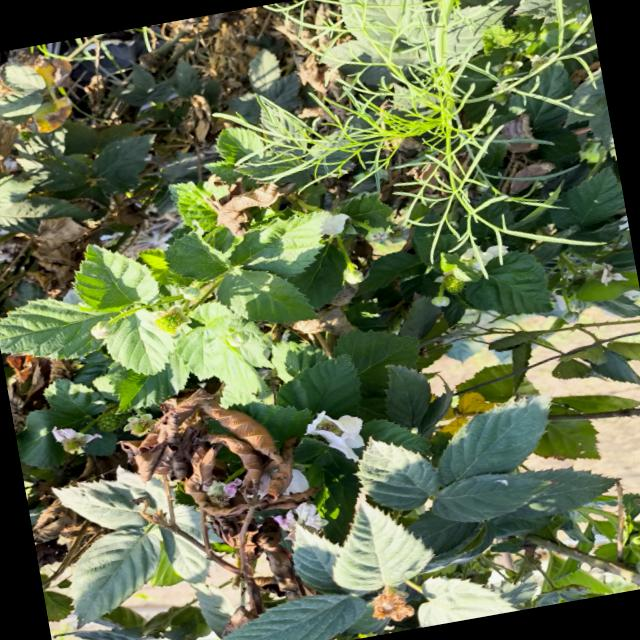boton: (90, 321, 113, 339), (226, 328, 247, 346), (345, 268, 363, 284), (181, 286, 200, 300), (431, 295, 449, 306)
verde: (154, 305, 190, 334), (443, 274, 465, 293)
